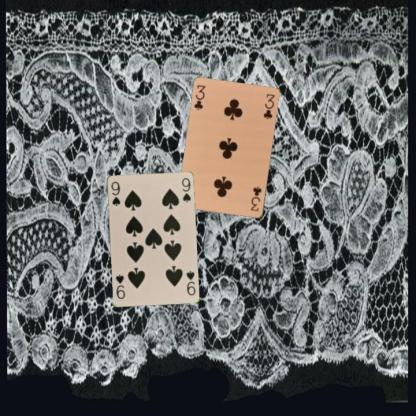3c: (192, 82, 207, 112), (248, 184, 263, 212)
9s: (109, 178, 121, 207), (184, 268, 196, 296)
